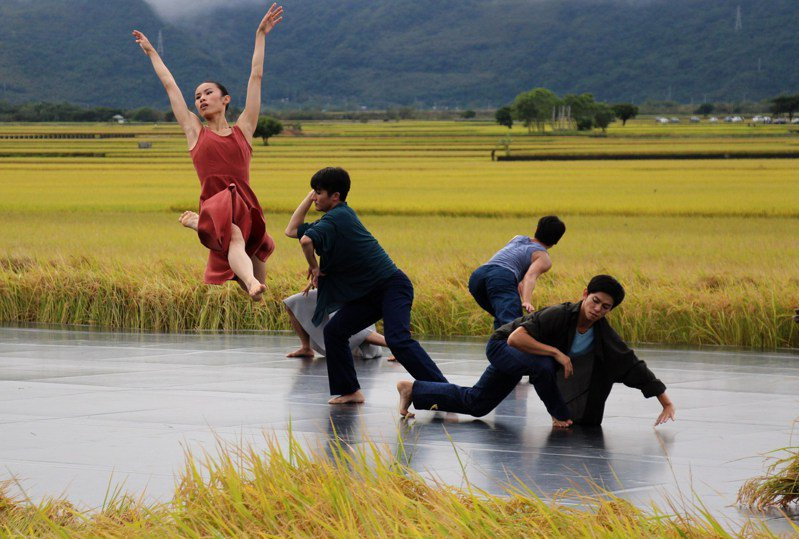people: (401, 274, 676, 427), (297, 159, 452, 408), (180, 81, 275, 300), (470, 217, 558, 313)
